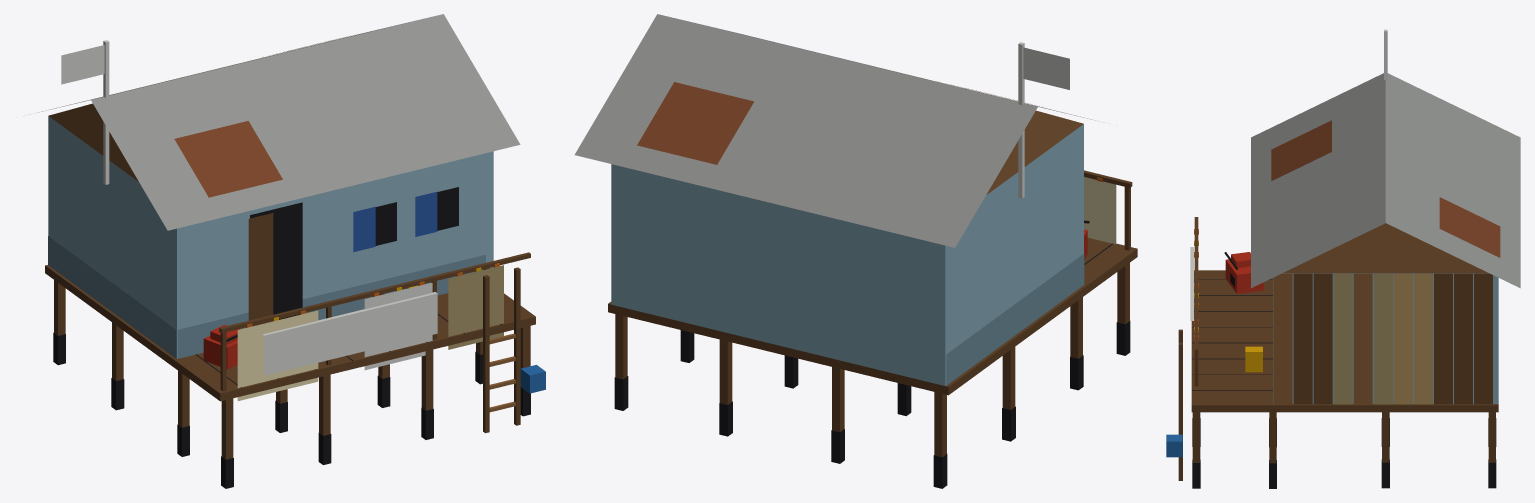
File: building_makoko-church.glb
3 renders of one model, left to right at view 1: azimuth 30°, elevation 25°; view 2: azimuth 150°, elevation 25°; view 3: azimuth 270°, elevation 25°, orthographic. The views are drawn at different scales.
Visible parts, largest first — view 1: body; view 2: body; view 3: body.
Boxes of the visible parts, x1,y1,x2,y2 form: body: (28, 14, 545, 488); body: (574, 14, 1137, 488); body: (1166, 29, 1520, 488).
Size of the model in its own units: 6.18 by 5.7 by 5.65.
